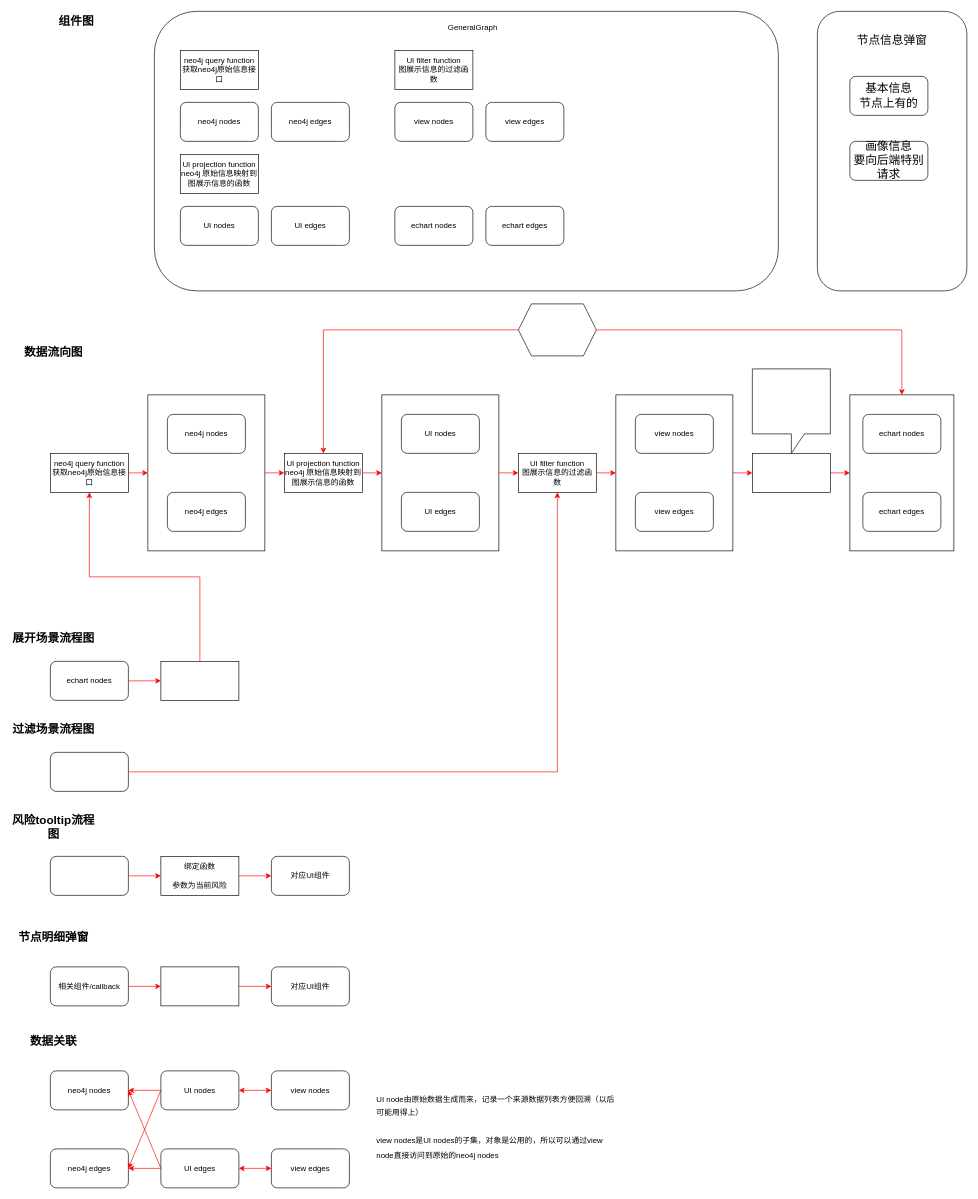
Image size: 978x1199. Some labels were removed from this diagram. The shapes that lost their labels are listed below. From the top down, each one's centre as x and y in pixels, then its label:
At [791,410]: "生成具体的UI组件，把数据绑定上去， 把函数也绑定上去，实现不同的定制化策略".
At [791,472]: "生成html组件，绑定函数".
At [199,680]: "展开函数".
At [89,771]: "过滤组件".
At [89,875]: "tooltip相关组件/callback".
At [199,986]: "绑定函数 参数为当前节点 echart node".
